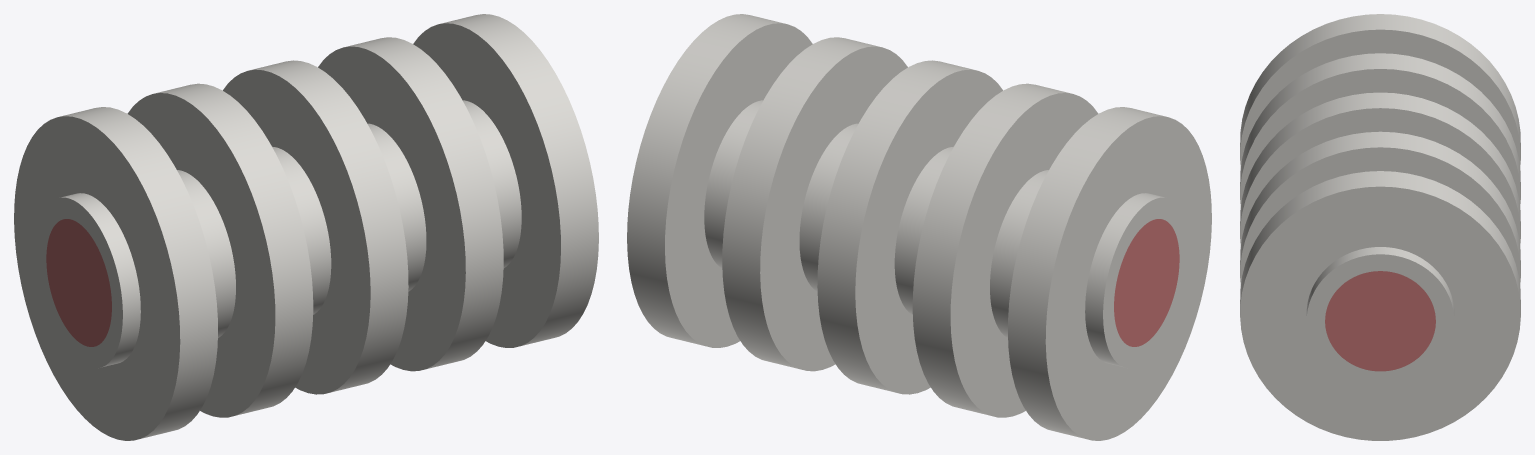
File: step_03.glb
3 views of the same model, side by side, from view 1: azimuth 30°, elevation 25°; view 2: azimuth 150°, elevation 25°; view 3: azimuth 270°, elevation 25° (orthographic). The views are drawn at different scales.
Parts seen in each view (by area): view 1: part__worm, removed__worm; view 2: part__worm, removed__worm; view 3: part__worm, removed__worm.
Boxes of the visible parts, <box> form: part__worm: <box>14,14,598,440</box>; removed__worm: <box>46,219,111,346</box>; part__worm: <box>627,14,1211,440</box>; removed__worm: <box>1114,219,1179,346</box>; part__worm: <box>1240,14,1520,440</box>; removed__worm: <box>1325,271,1435,371</box>.
Bounding box in the file's own units: 12 × 7.6 × 7.6.
